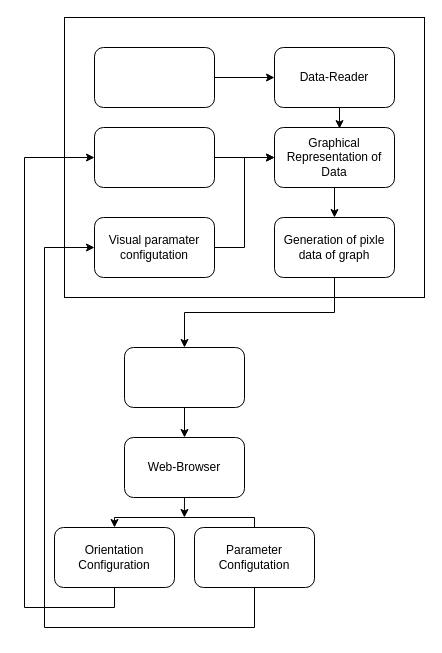
Some shapes in this 442 by 653 pixel diagram are drawn without their labels. Each missing label, with the centre of its shape:
Client: [184,377]
Pre-Processed Data: [154,77]
Visual Orientation of data input: [154,157]
